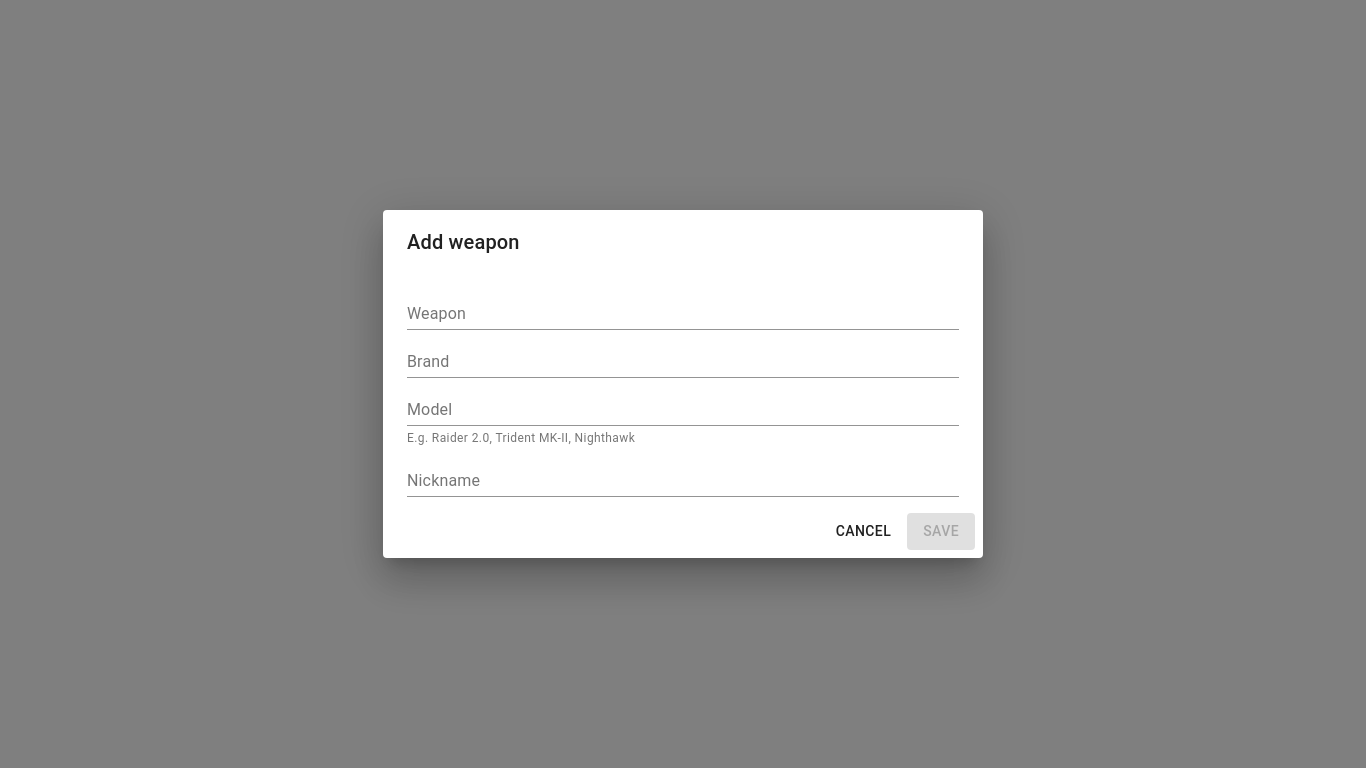
Test: Add armory item dialog › should not submit if a manual armory item is entered with no type
In the field labelled "Weapon": (683, 314) top-left (407, 298), bottom-right (959, 329), type "ak"
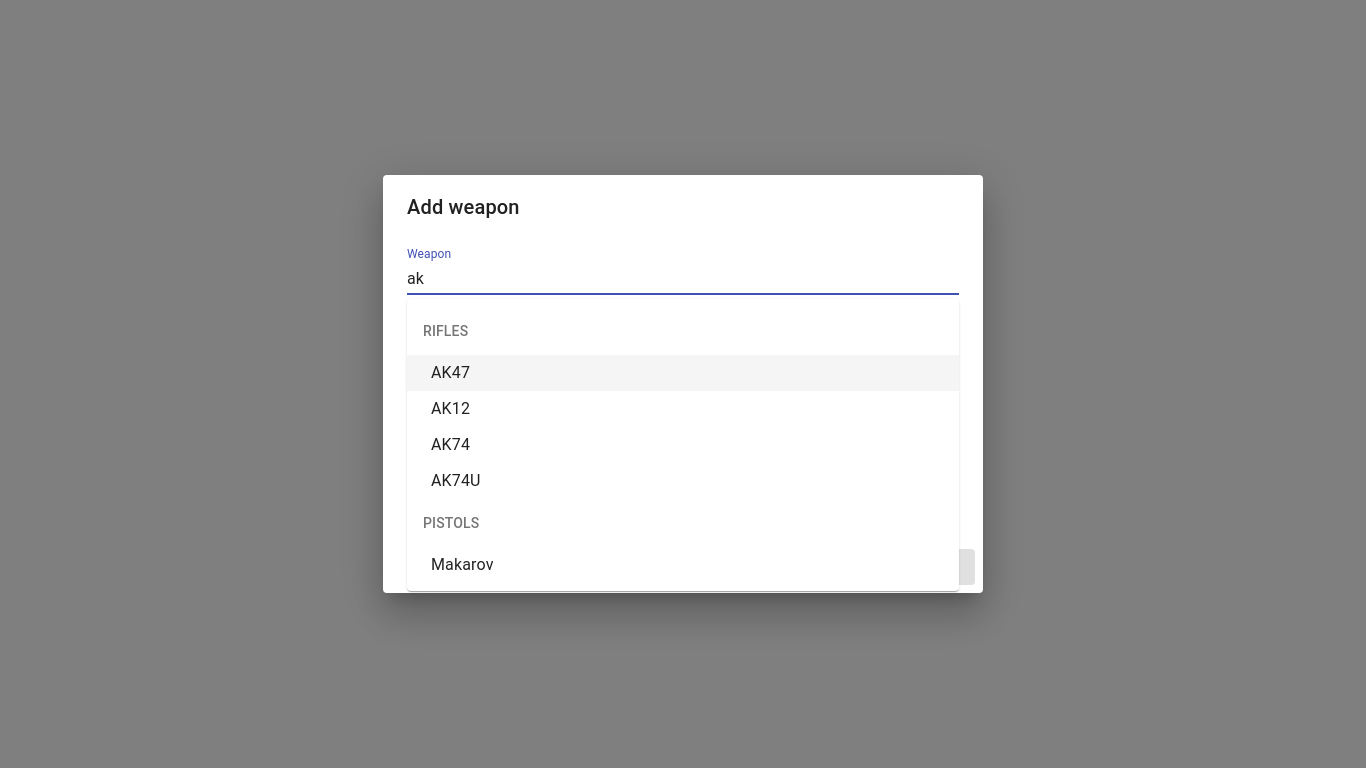
Expected: the button "Save" is disabled, top-left (907, 549), bottom-right (975, 585)
Now the button named "Type" is shown, box top-left (407, 311), bottom-right (959, 343)
